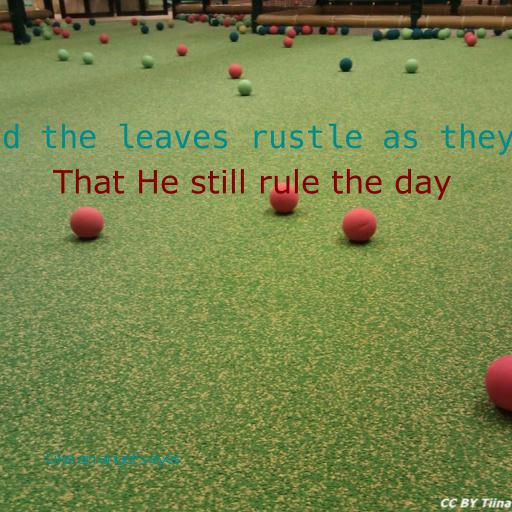Menlo: (0, 123, 512, 155)
Skia: (45, 452, 179, 468)
Verdana: (52, 169, 452, 200)
